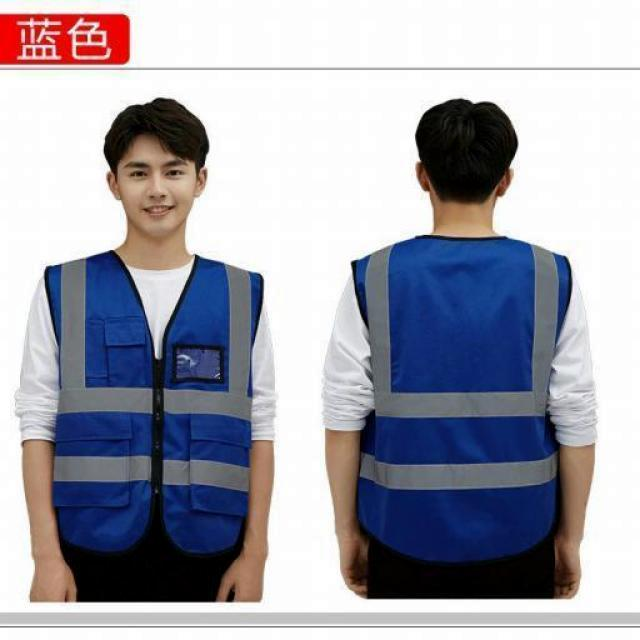no_head_wear: (416, 99, 518, 202), (104, 98, 208, 172)
person: (324, 99, 596, 598), (15, 98, 275, 600)
